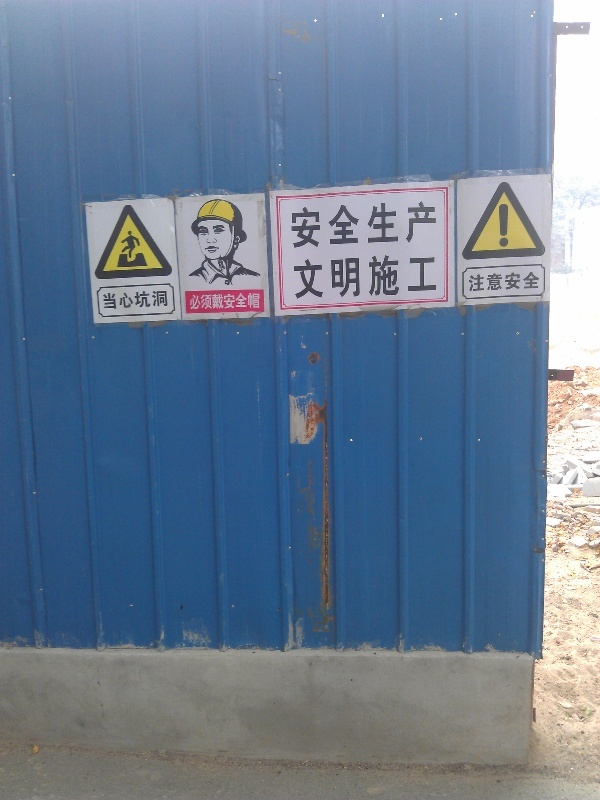text: (289, 200, 304, 251), (305, 200, 320, 251), (321, 200, 336, 251), (337, 200, 352, 251), (353, 200, 368, 251), (369, 200, 384, 251), (385, 200, 400, 251), (401, 200, 416, 251), (417, 200, 432, 251), (305, 252, 320, 303), (321, 252, 336, 303), (337, 252, 352, 303), (353, 252, 368, 303), (369, 252, 384, 303), (385, 252, 400, 303), (401, 252, 416, 303), (417, 252, 432, 303), (291, 252, 304, 303), (113, 288, 128, 313), (129, 288, 144, 313), (145, 288, 160, 313), (481, 271, 496, 294), (497, 271, 512, 294), (513, 271, 528, 294), (529, 271, 544, 294), (466, 271, 480, 294), (101, 288, 112, 313), (161, 288, 172, 313), (433, 200, 438, 251), (433, 252, 438, 303), (193, 294, 208, 310), (209, 294, 224, 310), (225, 294, 240, 310), (241, 294, 256, 310), (257, 294, 262, 310), (287, 200, 288, 251), (189, 294, 192, 310)
